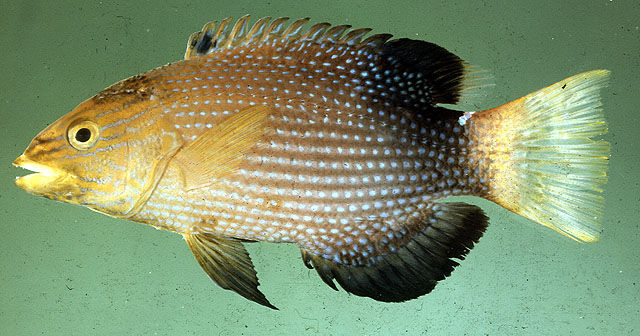fish: (13, 15, 613, 313)
